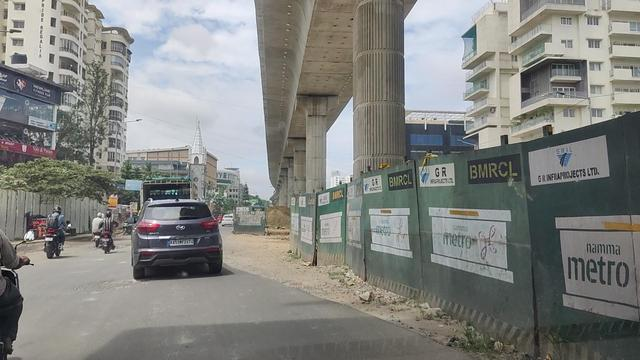LMV: (133, 202, 219, 282), (43, 206, 70, 259)
RoadDamages: (284, 280, 346, 321), (71, 273, 135, 302), (243, 261, 275, 289)
